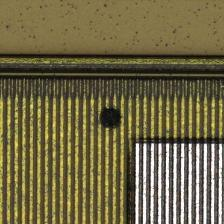PARTICLE: (98, 104, 126, 132)
